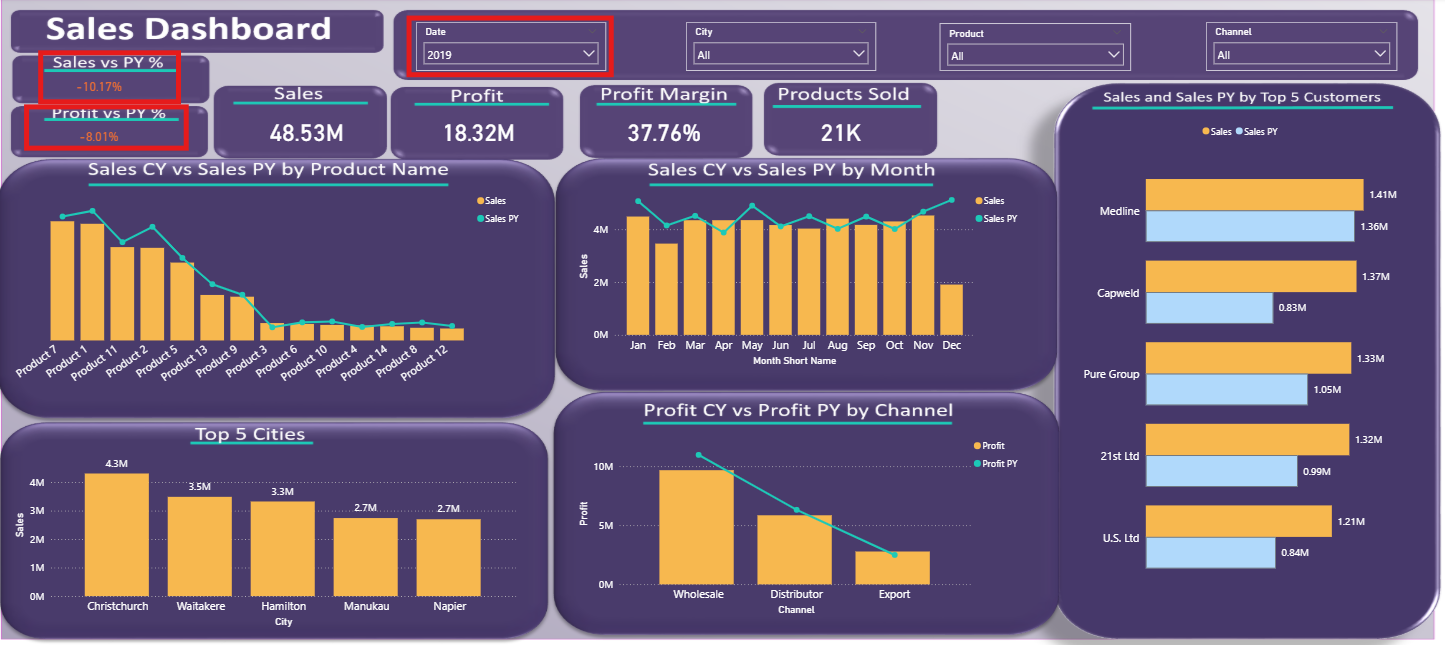

What the dashboard file says about the page in this screenshot:
{"tool":"powerbi","page":{"name":"Sales Dashboard","canvas":[2250,970],"ordinal":0},"visuals":[{"type":"slicer","fields":{"Values":["DateTable.Year","DateTable.Month Short Name Plus Year"]},"box":[613.6,36.1,274.3,70.4],"z":0},{"type":"slicer","fields":{"Values":["Regions.City"]},"box":[1003.4,36.1,274.3,70.4],"z":1000},{"type":"slicer","fields":{"Values":["Sales.Channel"]},"box":[1754.1,36.1,276.1,70.4],"z":2000},{"type":"slicer","fields":{"Values":["Products.Product Name"]},"box":[1369.7,37.9,276.1,68.6],"z":3000},{"type":"card","fields":{"Values":["Measures table.Sales VS PY %"]},"box":[96.1,106.3,149.2,45],"z":4000},{"type":"card","fields":{"Values":["Measures table.Profit VS PY %"]},"box":[96.1,181.9,149.2,40.9],"z":5000},{"type":"card","fields":{"Values":["Measures table.Sales"]},"box":[362.7,151.6,185.9,83],"z":6000},{"type":"card","fields":{"Values":["Measures table.Products Sold"]},"box":[1140.5,151.6,173.2,83],"z":7000},{"type":"card","fields":{"Values":["Measures table.Profit Margin"]},"box":[887.9,151.6,167.8,83],"z":8000},{"type":"card","fields":{"Values":["Measures table.Profit"]},"box":[631.6,151.6,144.4,83],"z":9000},{"type":"lineClusteredColumnComboChart","title":"Sales CY vs Sales PY by Product Name","fields":{"Category":["Products.Product Name"],"Y":["Measures table.Sales"],"Y2":["Measures table.Sales PY"]},"box":[29.3,276.3,747.7,303.9],"z":10000},{"type":"lineClusteredColumnComboChart","title":"Sales CY vs Sales PY by Month","fields":{"Y":["Measures table.Sales"],"Y2":["Measures table.Sales PY"],"Category":["DateTable.Month Short Name"]},"box":[841.9,276.3,653.4,261.7],"z":11000},{"type":"columnChart","title":"Top 5 Cities","fields":{"Category":["Regions.City"],"Y":["Measures table.Sales"]},"box":[28.9,646.1,734.5,268.9],"z":12000},{"type":"lineClusteredColumnComboChart","title":"Profit CY vs Profit PY by Channel","fields":{"Category":["Sales.Channel"],"Y":["Measures table.Profit"],"Y2":["Measures table.Profit PY"]},"box":[841.9,630.6,653.4,268.2],"z":13000},{"type":"clusteredBarChart","fields":{"Y":["Measures table.Sales","Measures table.Sales PY"],"Category":["Customer.Customer Names"]},"box":[1566.8,173.9,477.9,707],"z":14000}]}

Visuals, with their boxes on the page's 2250x970 design canvas (x1, y1, x2, y2). These are canvas units, not pixel positions in the 1445x645 screenshot, which may show the page scaled, cropped or inside an application window:
slicer - DateTable.Year x DateTable.Month Short Name Plus Year: bbox=[614, 36, 888, 106]
slicer - Regions.City: bbox=[1003, 36, 1278, 106]
slicer - Sales.Channel: bbox=[1754, 36, 2030, 106]
slicer - Products.Product Name: bbox=[1370, 38, 1646, 106]
card - Measures table.Sales VS PY %: bbox=[96, 106, 245, 151]
card - Measures table.Profit VS PY %: bbox=[96, 182, 245, 223]
card - Measures table.Sales: bbox=[363, 152, 549, 235]
card - Measures table.Products Sold: bbox=[1140, 152, 1314, 235]
card - Measures table.Profit Margin: bbox=[888, 152, 1056, 235]
card - Measures table.Profit: bbox=[632, 152, 776, 235]
"Sales CY vs Sales PY by Product Name" lineClusteredColumnComboChart: bbox=[29, 276, 777, 580]
"Sales CY vs Sales PY by Month" lineClusteredColumnComboChart: bbox=[842, 276, 1495, 538]
"Top 5 Cities" columnChart: bbox=[29, 646, 763, 915]
"Profit CY vs Profit PY by Channel" lineClusteredColumnComboChart: bbox=[842, 631, 1495, 899]
clusteredBarChart - Measures table.Sales x Measures table.Sales PY: bbox=[1567, 174, 2045, 881]
